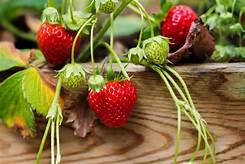Fresa: (83, 73, 140, 130), (33, 18, 84, 69)
